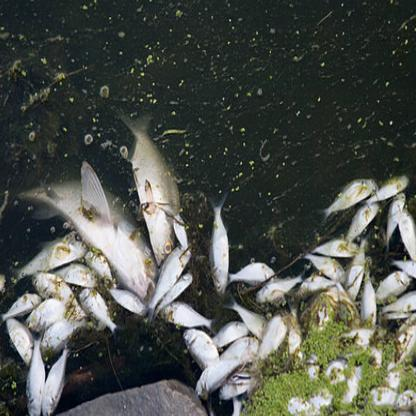deceased fish: (16, 174, 155, 297), (117, 96, 186, 263), (201, 192, 229, 297), (32, 272, 85, 316), (21, 331, 47, 416), (324, 175, 378, 214), (46, 342, 73, 416), (80, 285, 115, 332), (180, 328, 221, 367), (257, 276, 306, 305), (228, 260, 274, 288), (309, 237, 360, 257)
